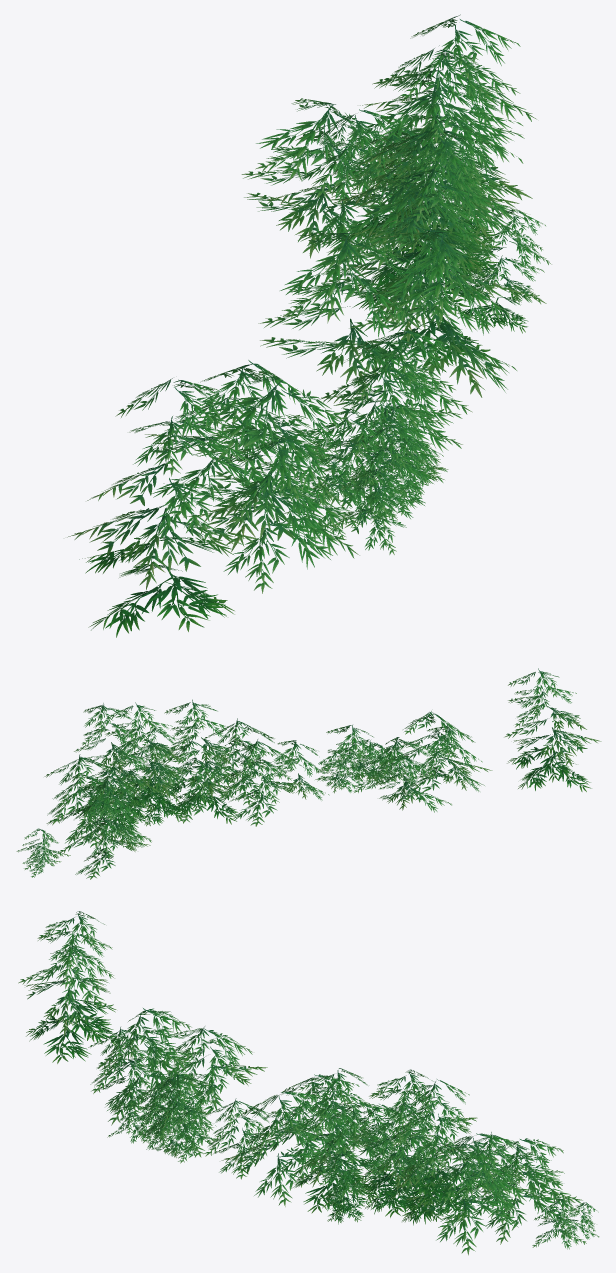
The model's file is Area_11_56.fbx.
The picture shows the model from 3 angles, top to bottom: view 1: azimuth 30°, elevation 25°; view 2: azimuth 150°, elevation 25°; view 3: azimuth 270°, elevation 25°; orthographic projection. The views are drawn at different scales.
Parts seen in each view (by area): view 1: Area_11_56; view 2: Area_11_56; view 3: Area_11_56.
Part boxes in pixels (x1=…): Area_11_56: x1=67, y1=14, x2=551, y2=637; Area_11_56: x1=16, y1=668, x2=601, y2=879; Area_11_56: x1=18, y1=911, x2=599, y2=1255.
Bounding box in the file's own units: 5753 × 1987 × 6166.
